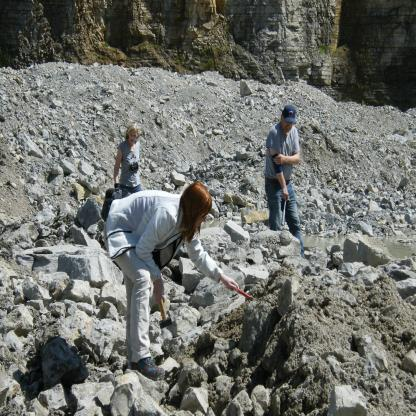person: (90, 173, 218, 371), (258, 79, 308, 274), (103, 113, 147, 194)
